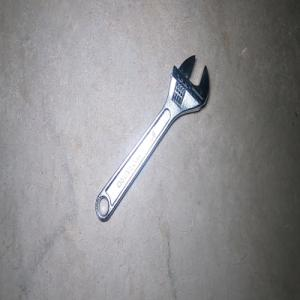Wrench: (95, 54, 209, 221)
